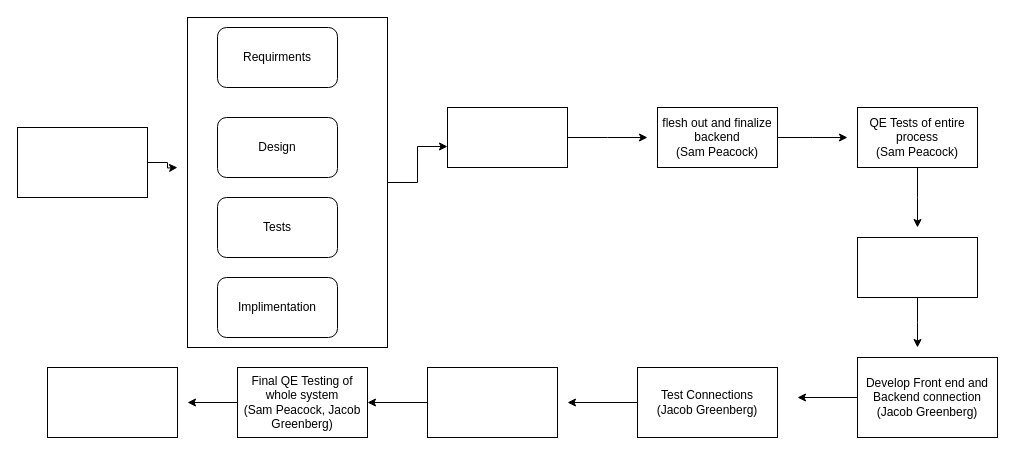
This 1015x455 diagram has some shape labels left out. The shapes that lost their labels are listed below. From the top down, each one's centre as x and y in pixels, then its label:
At pixel 507 137: "Begin backend with API Connections (Sam Peacock)".
At pixel 82 162: "Define deliverables and create tasks".
At pixel 917 267: "Finalize Draft Frontend look (Jacob Greenberg)".
At pixel 112 402: "Publish".
At pixel 492 402: "Stylize Website (Jacob Greenberg)".
